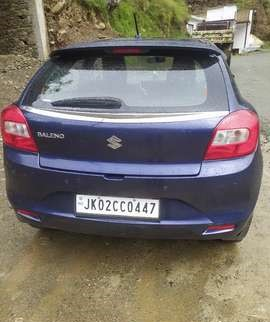JK02CC0447: (76, 194, 159, 218)
